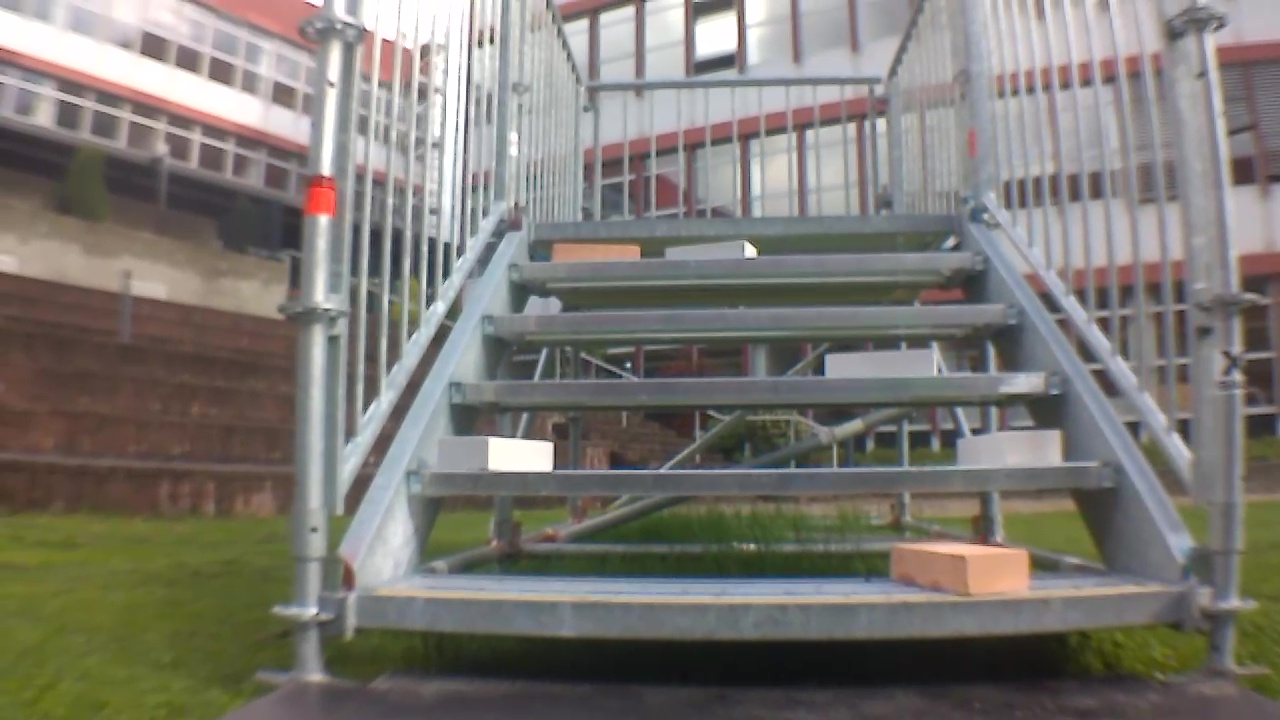brick: (891, 541, 1028, 595), (437, 436, 553, 472), (957, 429, 1062, 465), (826, 349, 935, 378), (666, 240, 755, 258), (553, 243, 639, 260)
edge: (356, 588, 1177, 639), (405, 462, 1121, 494), (450, 371, 1068, 404), (480, 302, 1025, 331), (508, 252, 989, 278), (530, 214, 962, 236)
stairs: (279, 1, 1264, 672)
steps: (348, 207, 1181, 646)
